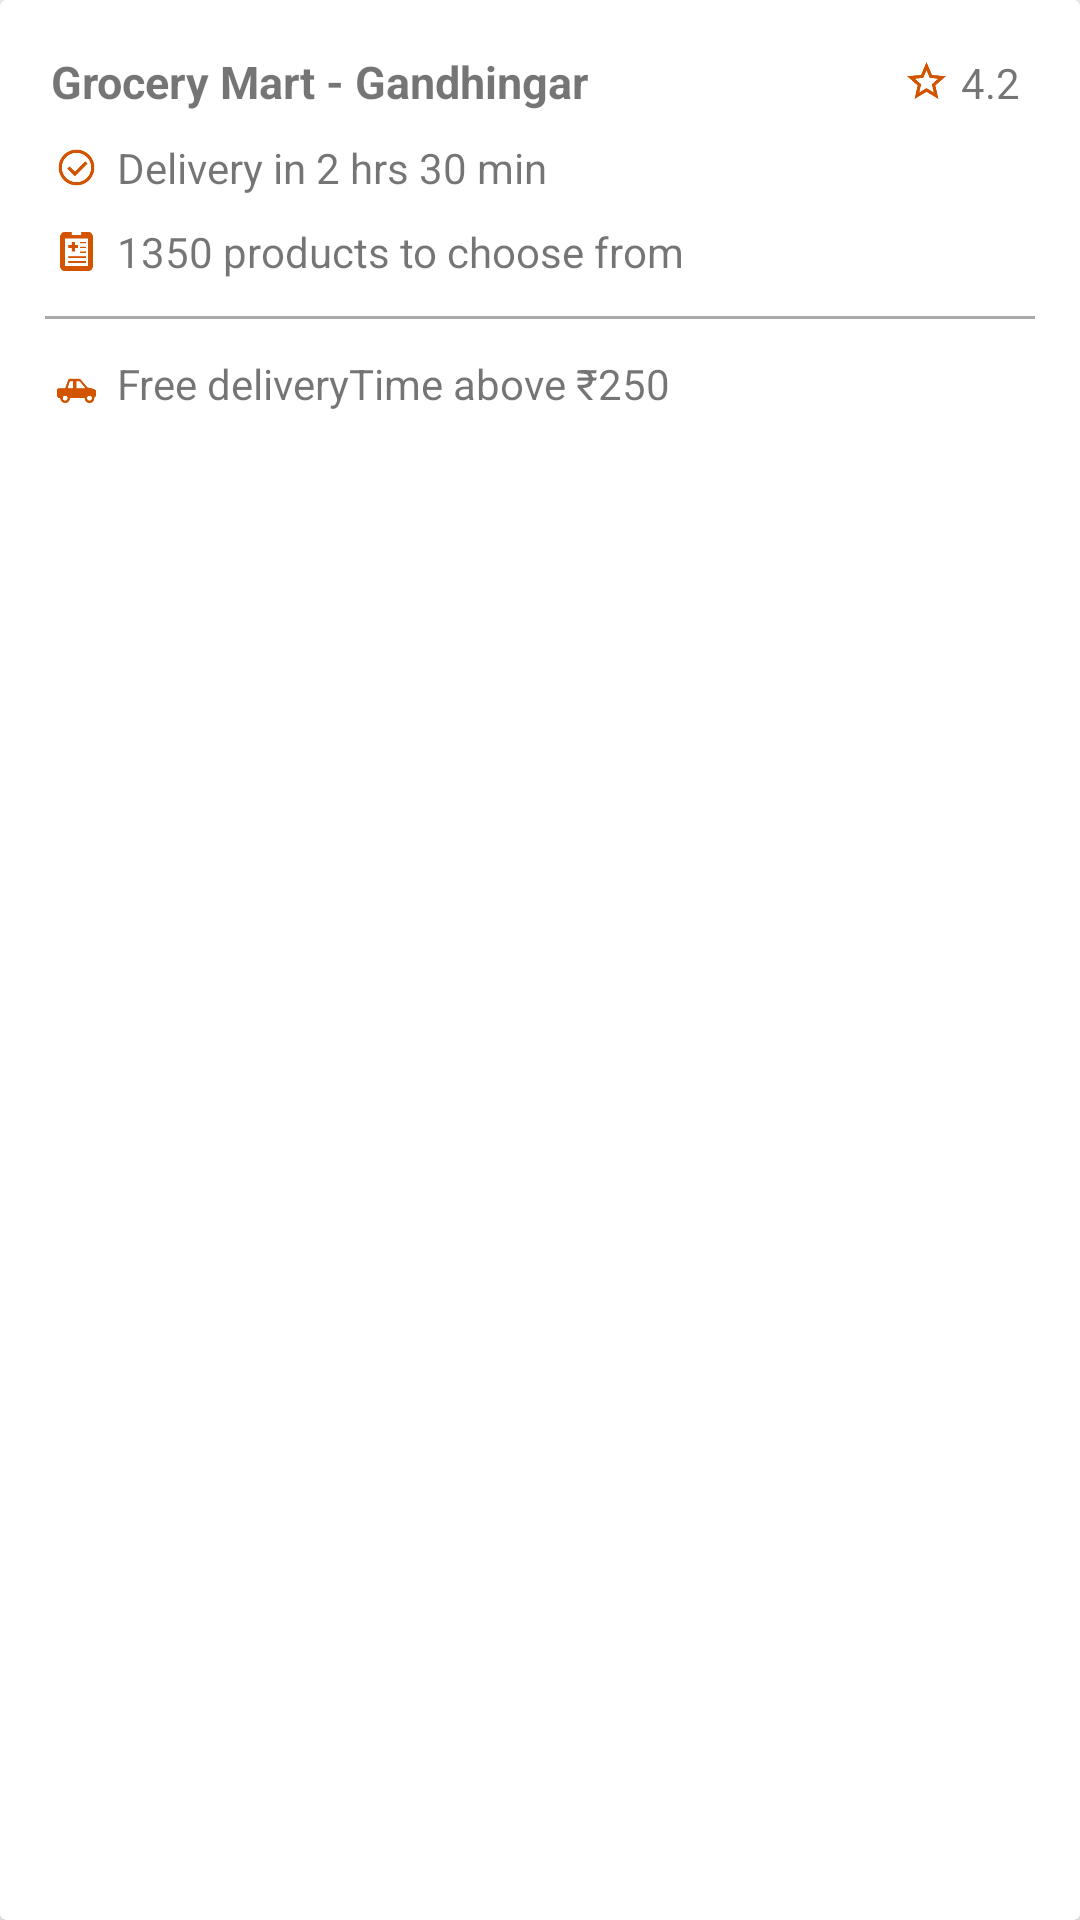

Point at icon controls on the screen. Image size 1080 × 1920, points as [x,y].
star: [926,80]
